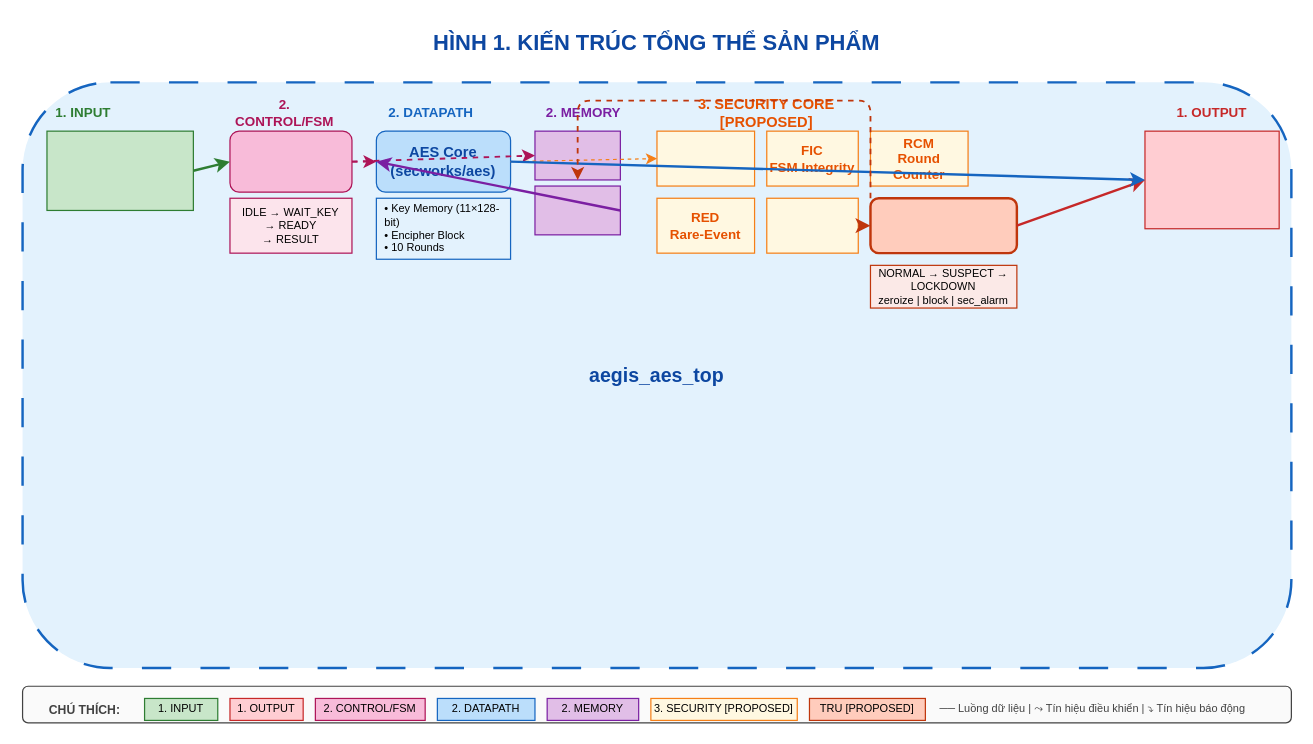
This 1313x744 diagram has some shape labels left out. Here are the shapes that lost their labels. From the top down, the centre of each, then its label:
point 119,170: clk, rst_n key[127:0], key_valid data_in[127:0] data_in_valid
point 290,161: AES Top FSM (6 states)
point 577,155: key_reg [127:0]
point 705,158: KLG Key-Leak Guard
point 1211,179: data_out[127:0] data_out_valid busy sec_alarm sec_warning sec_status[7:0]
point 577,210: block_reg [127:0]
point 812,225: ORC Output Check
point 943,225: TRU Tamper Response [PROPOSED]
